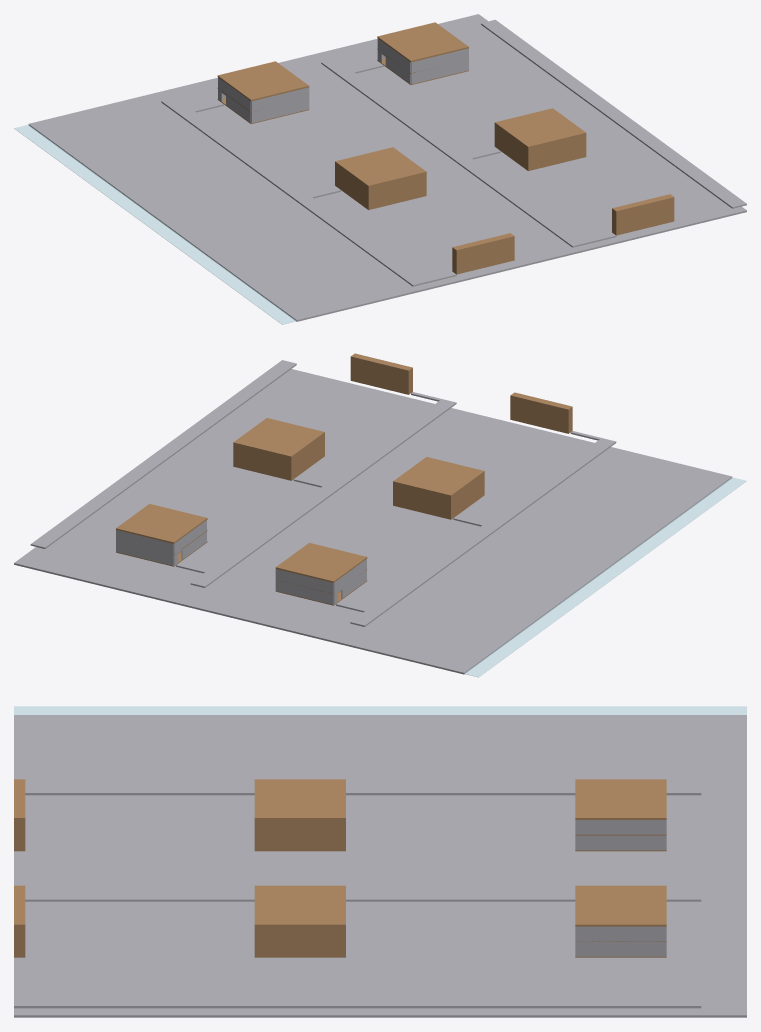
The model's file is city_c01_00.glb.
3 views of the same model, one above another, from view 1: azimuth 30°, elevation 25°; view 2: azimuth 150°, elevation 25°; view 3: azimuth 270°, elevation 25° (orthographic). The views are drawn at different scales.
Visible parts, largest first — view 1: terrain_west_proxy__c01_00, building_013__c01_00, building_014__c01_00, road_west_4__c01_00, road_west_3__c01_00, road_west_2__c01_00, river_water_proxy__c01_00, building_004_flat_roof_proxy__c01_00, building_003_flat_roof_proxy__c01_00, building_024__c01_00, building_023__c01_00, building_004_north_wall__c01_00 (+3 smaller); view 2: terrain_west_proxy__c01_00, building_013__c01_00, building_014__c01_00, road_west_2__c01_00, road_west_3__c01_00, road_west_4__c01_00, river_water_proxy__c01_00, building_004_flat_roof_proxy__c01_00, building_003_flat_roof_proxy__c01_00, building_023__c01_00, building_024__c01_00, building_003_south_wall__c01_00 (+3 smaller); view 3: terrain_west_proxy__c01_00, road_west_2__c01_00, building_013__c01_00, building_014__c01_00, river_water_proxy__c01_00, road_west_4__c01_00, road_west_3__c01_00, building_003_flat_roof_proxy__c01_00, building_004_flat_roof_proxy__c01_00, building_003_west_wall__c01_00, building_004_west_wall__c01_00, building_023__c01_00 (+1 smaller).
Boxes of the visible parts, bbox=[...] form: terrain_west_proxy__c01_00: bbox=[28, 14, 746, 321]; building_013__c01_00: bbox=[494, 108, 586, 170]; building_014__c01_00: bbox=[335, 147, 426, 209]; road_west_4__c01_00: bbox=[161, 97, 427, 286]; road_west_3__c01_00: bbox=[321, 58, 587, 247]; road_west_2__c01_00: bbox=[481, 19, 746, 208]; river_water_proxy__c01_00: bbox=[14, 125, 296, 324]; building_004_flat_roof_proxy__c01_00: bbox=[217, 61, 309, 101]; building_003_flat_roof_proxy__c01_00: bbox=[377, 22, 468, 62]; building_024__c01_00: bbox=[452, 233, 514, 274]; building_023__c01_00: bbox=[612, 194, 674, 235]; building_004_north_wall__c01_00: bbox=[251, 87, 308, 123]; terrain_west_proxy__c01_00: bbox=[14, 369, 732, 674]; building_013__c01_00: bbox=[233, 418, 324, 480]; building_014__c01_00: bbox=[393, 457, 484, 519]; road_west_2__c01_00: bbox=[30, 360, 296, 548]; road_west_3__c01_00: bbox=[190, 399, 456, 587]; road_west_4__c01_00: bbox=[350, 438, 616, 626]; river_water_proxy__c01_00: bbox=[464, 477, 746, 677]; building_004_flat_roof_proxy__c01_00: bbox=[275, 542, 367, 582]; building_003_flat_roof_proxy__c01_00: bbox=[116, 504, 207, 543]; building_023__c01_00: bbox=[350, 353, 412, 394]; building_024__c01_00: bbox=[510, 392, 572, 433]; building_003_south_wall__c01_00: bbox=[116, 530, 173, 565]; terrain_west_proxy__c01_00: bbox=[14, 715, 746, 1017]; road_west_2__c01_00: bbox=[14, 996, 701, 1008]; building_013__c01_00: bbox=[254, 885, 345, 957]; building_014__c01_00: bbox=[254, 779, 345, 851]; river_water_proxy__c01_00: bbox=[14, 706, 746, 714]; road_west_4__c01_00: bbox=[25, 783, 701, 795]; road_west_3__c01_00: bbox=[25, 890, 701, 901]; building_003_flat_roof_proxy__c01_00: bbox=[575, 885, 666, 926]; building_004_flat_roof_proxy__c01_00: bbox=[575, 779, 666, 819]; building_003_west_wall__c01_00: bbox=[575, 926, 666, 956]; building_004_west_wall__c01_00: bbox=[575, 820, 666, 850]; building_023__c01_00: bbox=[14, 885, 25, 957].
Size of the model in its own units: 128 by 8.6 by 128.
